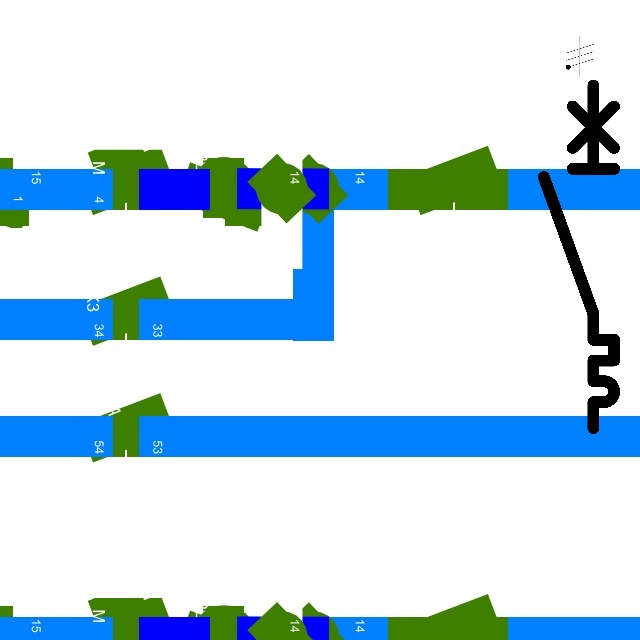interruptor_termomagnetico: (535, 76, 623, 436)
